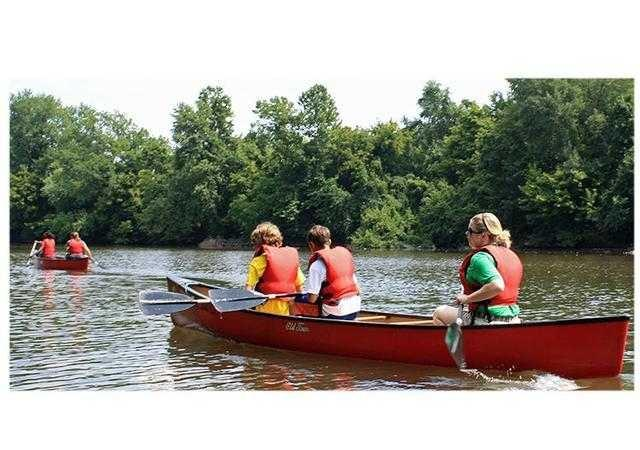kayak: (141, 269, 626, 375), (32, 256, 92, 272)
